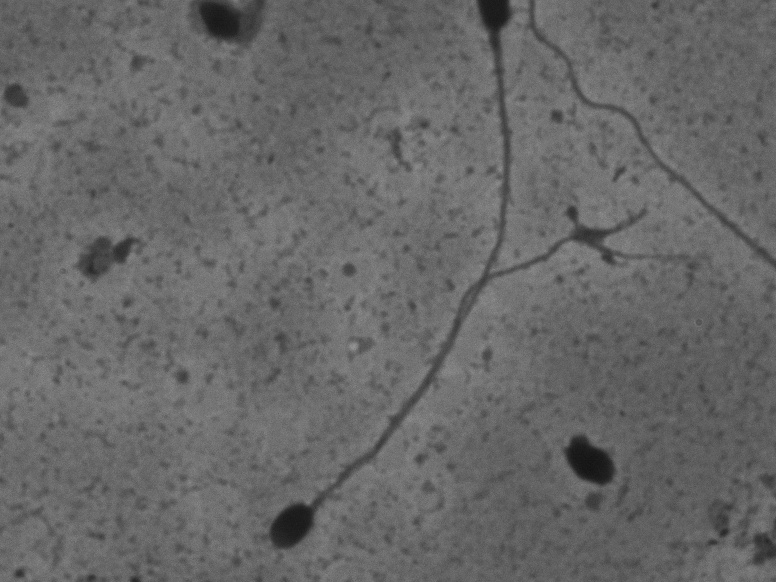Normal: (261, 202, 655, 564)
